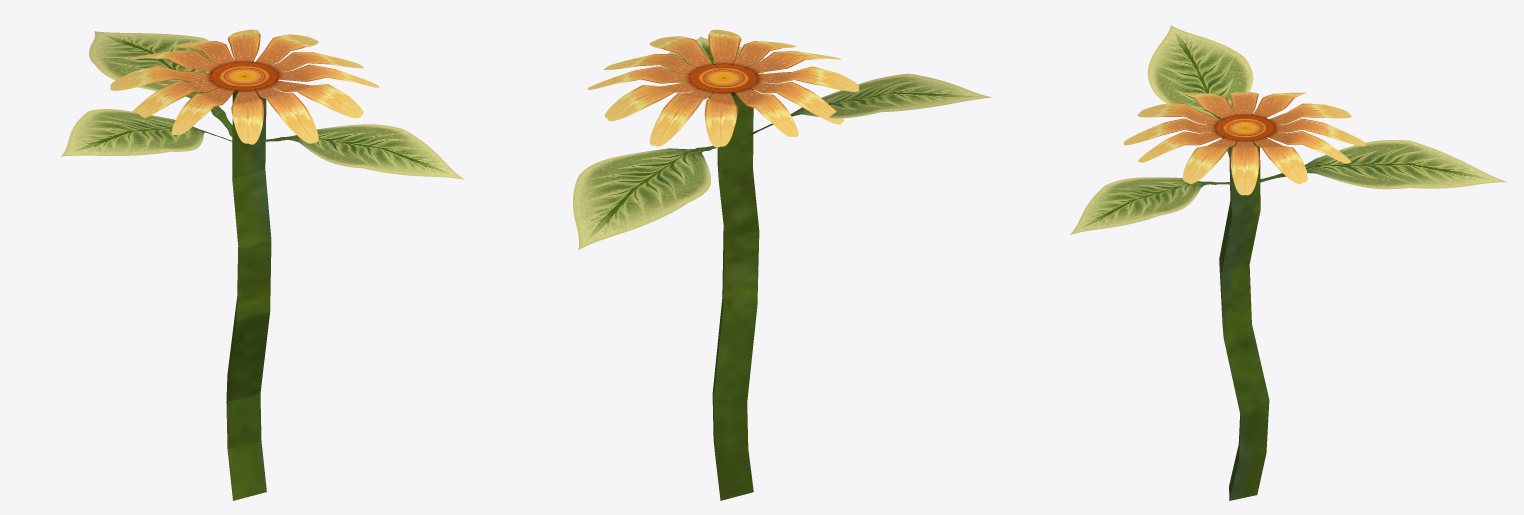
The model's file is flower_3.fbx.
The picture shows the model from 3 angles, left to right: view 1: azimuth 30°, elevation 25°; view 2: azimuth 150°, elevation 25°; view 3: azimuth 270°, elevation 25°; orthographic projection. The views are drawn at different scales.
Visible parts, largest first — view 1: Plane.010; view 2: Plane.010; view 3: Plane.010.
Boxes of the visible parts, <box> form: Plane.010: <box>60,29,464,500</box>; Plane.010: <box>573,29,992,500</box>; Plane.010: <box>1070,25,1507,500</box>.
Size of the model in its own units: 94.87 by 95.41 by 108.
